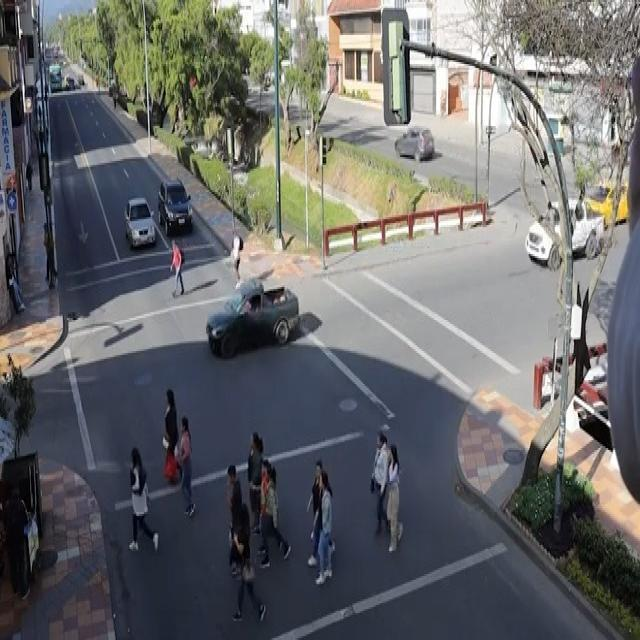CMT: (209, 293, 303, 352)
